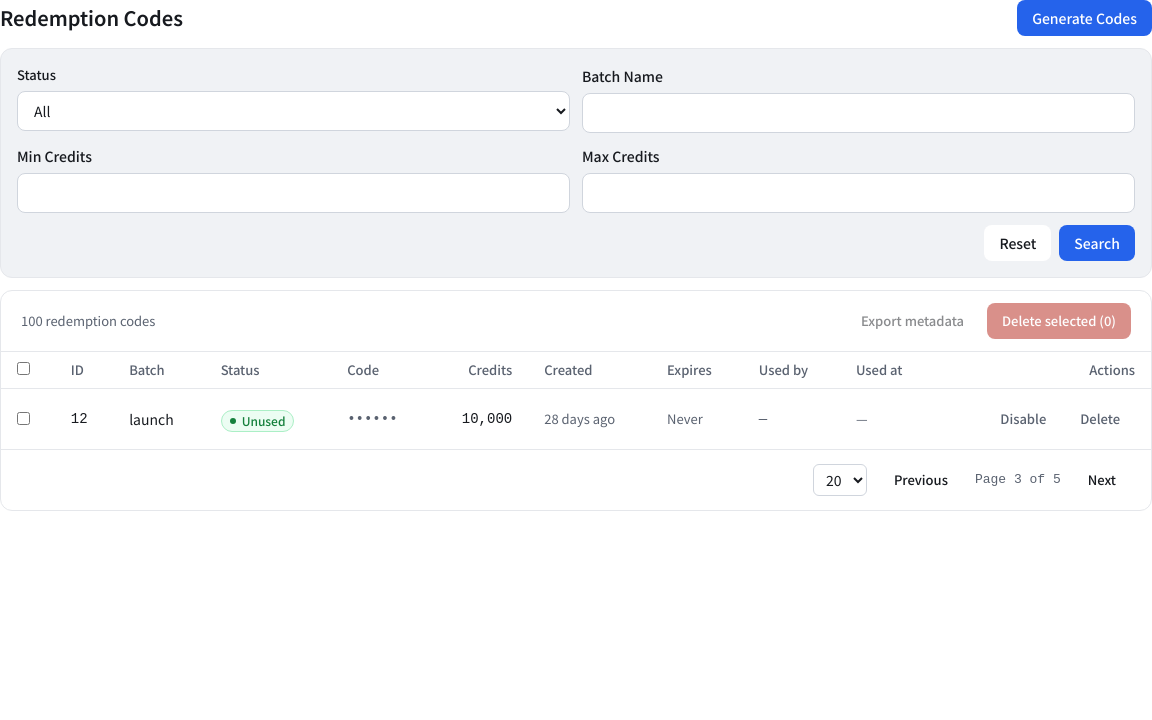
Test case: RedemptionCodesPage › returns to the first page after a successful generation
Expected: the text "launch" is shown, [113, 388, 205, 449]
Click the button "Generate Codes" at (1085, 18), box [1017, 0, 1151, 36]
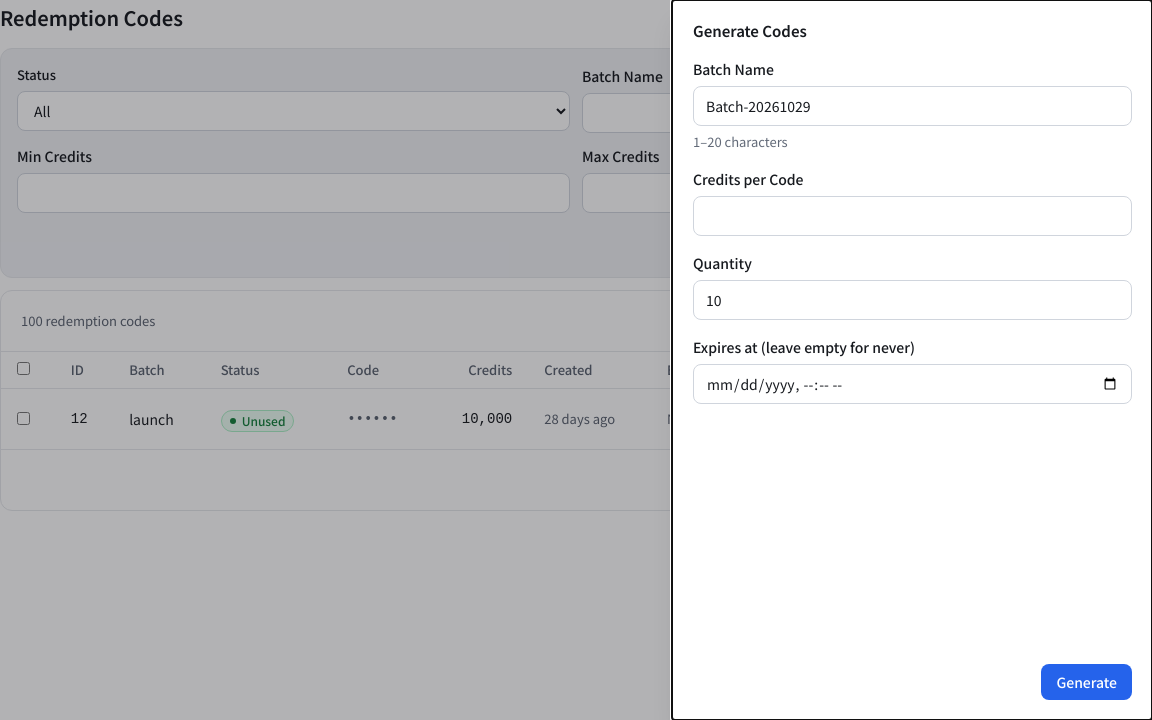
Type "100" into the field labelled "Credits per Code" at (912, 216), box [693, 196, 1132, 236]
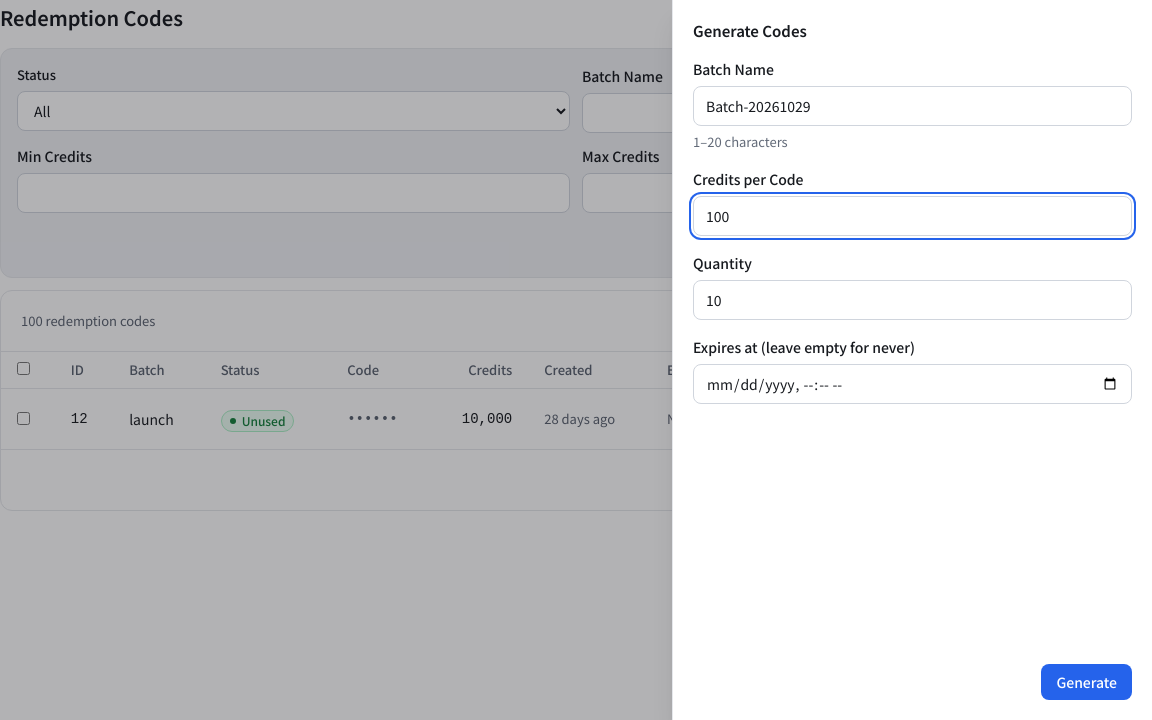
Click the button "Generate" at (1087, 682), box [1041, 664, 1132, 700]
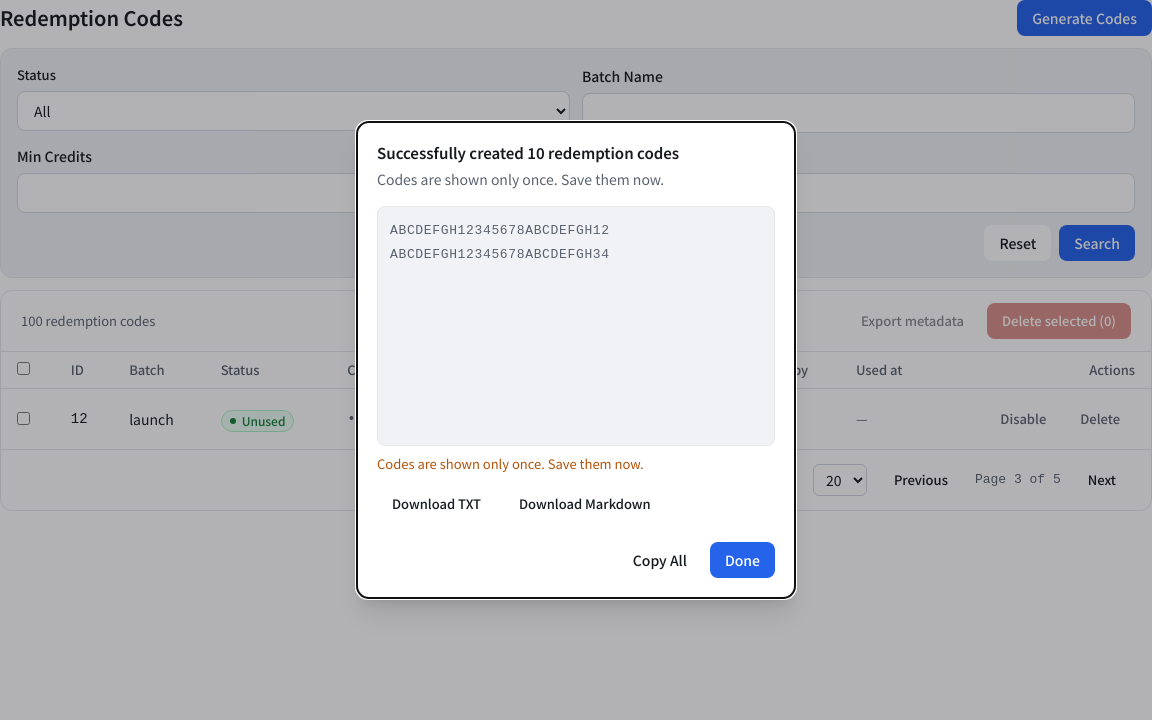
Now the dialog "Successfully created" is shown, box [356, 121, 796, 599]
